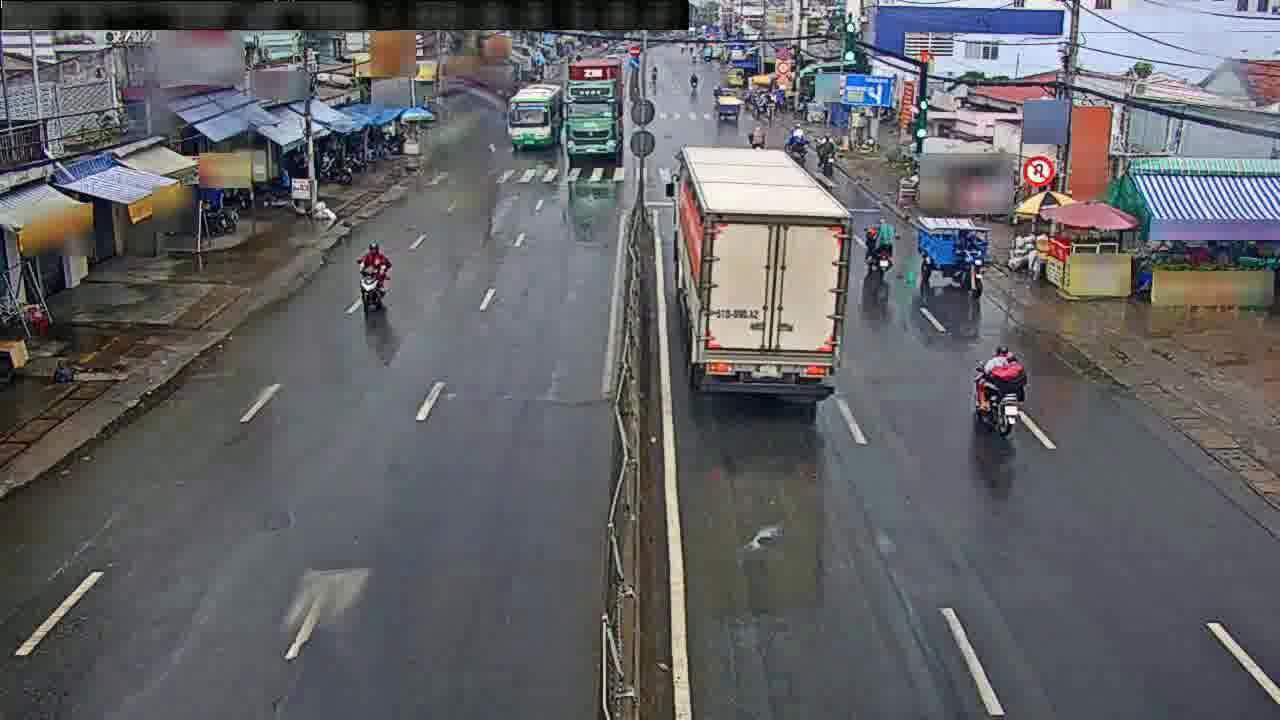container: (678, 148, 842, 397), (564, 52, 625, 168)
motorbike: (971, 345, 1033, 435), (354, 238, 391, 313), (865, 213, 897, 279), (814, 131, 843, 175), (782, 124, 808, 159), (746, 125, 764, 155)
passenger_car: (506, 76, 556, 149)
